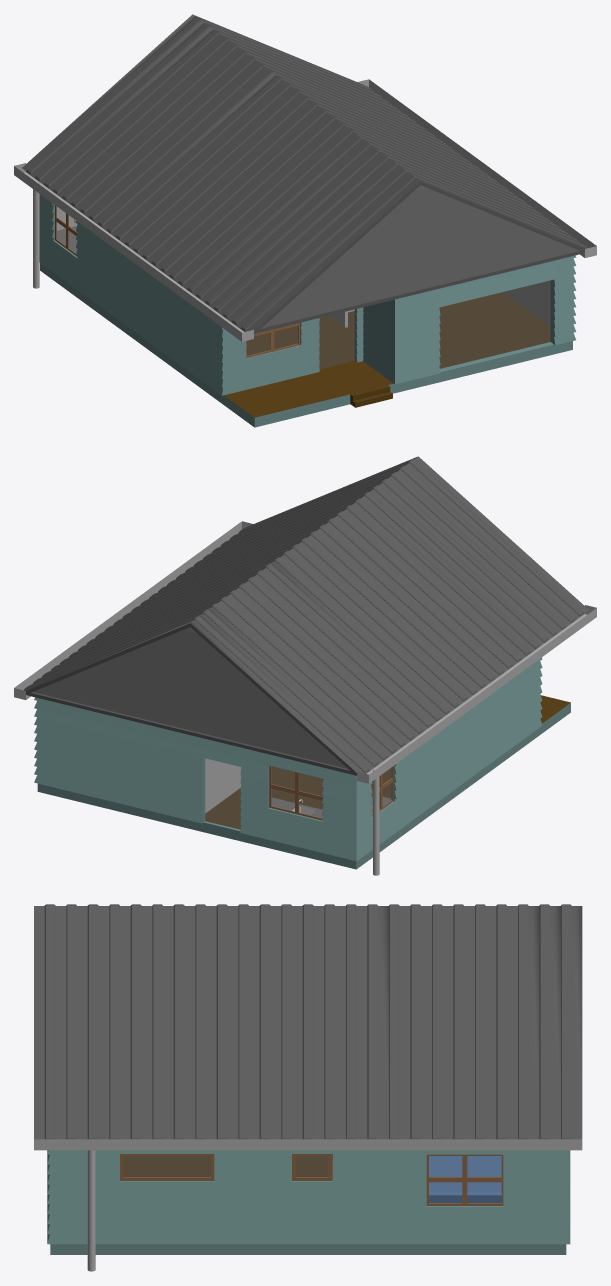
The model's file is betterhouse.glb.
The picture shows the model from 3 angles, top to bottom: view 1: azimuth 30°, elevation 25°; view 2: azimuth 150°, elevation 25°; view 3: azimuth 270°, elevation 25°; orthographic projection. The views are drawn at different scales.
Parts seen in each view (by area): view 1: Roof.col, House.col, Gutters; view 2: Roof.col, House.col, Gutters, Windowframe.004; view 3: Roof.col, House.col, Gutters, Bed.col, Windowframe.002, Windowframe.
Boxes of the visible parts, x1=… form: Roof.col: x1=22, y1=14, x2=586, y2=333; House.col: x1=39, y1=194, x2=576, y2=427; Gutters: x1=14, y1=79, x2=596, y2=341; Roof.col: x1=24, y1=456, x2=588, y2=775; House.col: x1=34, y1=657, x2=570, y2=869; Gutters: x1=14, y1=521, x2=596, y2=875; Windowframe.004: x1=269, y1=766, x2=323, y2=820; Roof.col: x1=34, y1=904, x2=582, y2=1139; House.col: x1=47, y1=1150, x2=570, y2=1254; Gutters: x1=34, y1=1139, x2=582, y2=1271; Bed.col: x1=429, y1=1156, x2=501, y2=1203; Windowframe.002: x1=426, y1=1154, x2=503, y2=1205; Windowframe: x1=120, y1=1154, x2=214, y2=1180.
Bounding box in the file's own units: 14.3 × 8.51 × 16.9.
